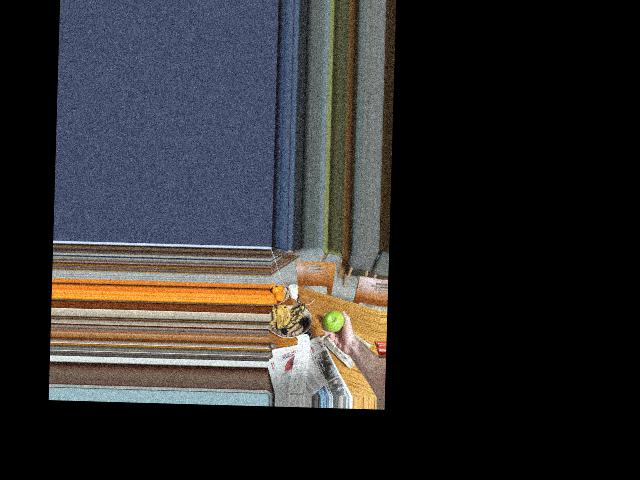apple: (323, 305, 343, 336)
